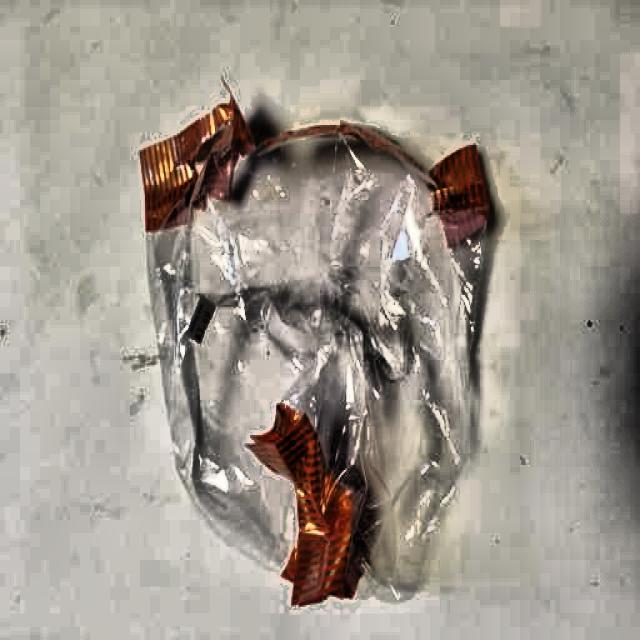plastic: (138, 98, 486, 612)
